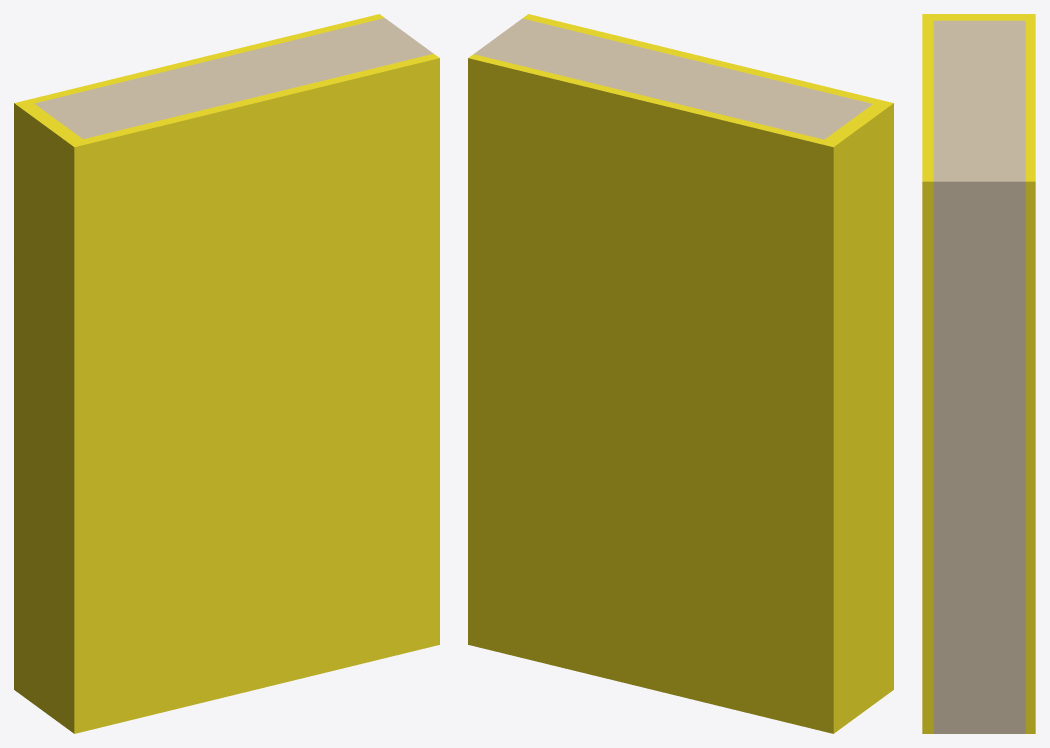
File: Books_2.fbx
The picture shows the model from 3 angles, left to right: view 1: azimuth 30°, elevation 25°; view 2: azimuth 150°, elevation 25°; view 3: azimuth 270°, elevation 25°; orthographic projection. The views are drawn at different scales.
Visible parts, largest first — view 1: pCube765; view 2: pCube765; view 3: pCube765.
Part boxes in pixels (left/top/right/bottom): pCube765: left=14, top=14, right=439, bottom=733; pCube765: left=468, top=14, right=893, bottom=733; pCube765: left=922, top=14, right=1035, bottom=733.
Bounding box in the file's own units: 0.35 × 0.537 × 0.1.
1 material, 1 textured.
